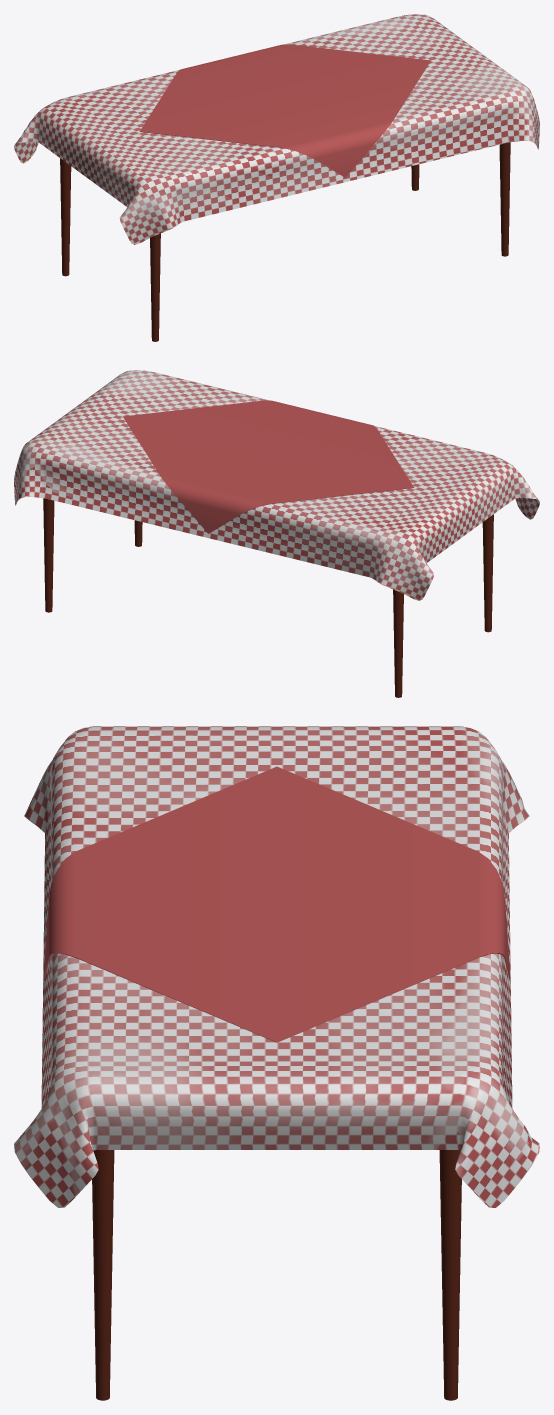
File: SM_Table.fbx
3 views of the same model, one above another, from view 1: azimuth 30°, elevation 25°; view 2: azimuth 150°, elevation 25°; view 3: azimuth 270°, elevation 25° (orthographic). The views are drawn at different scales.
Visible parts, largest first — view 1: TableTop; view 2: TableTop; view 3: TableTop.
Boxes of the visible parts, x1,y1,x2,y2 form: TableTop: (14, 14, 539, 341); TableTop: (14, 370, 539, 697); TableTop: (14, 726, 539, 1400).
Size of the model in its own units: 208 by 79.35 by 115.
